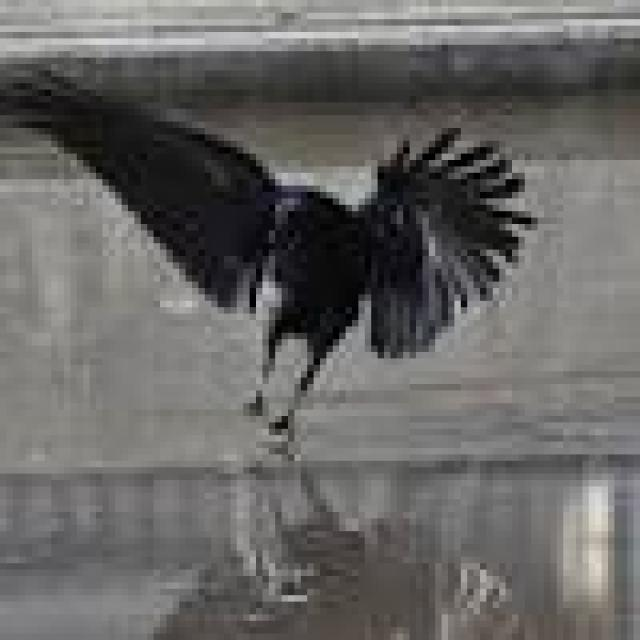bird: (2, 38, 551, 459)
